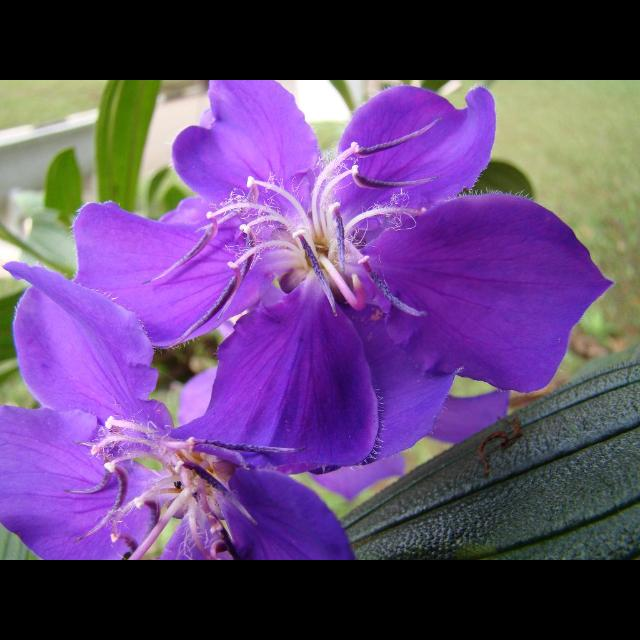Flower: (67, 80, 618, 473), (0, 256, 352, 560)
